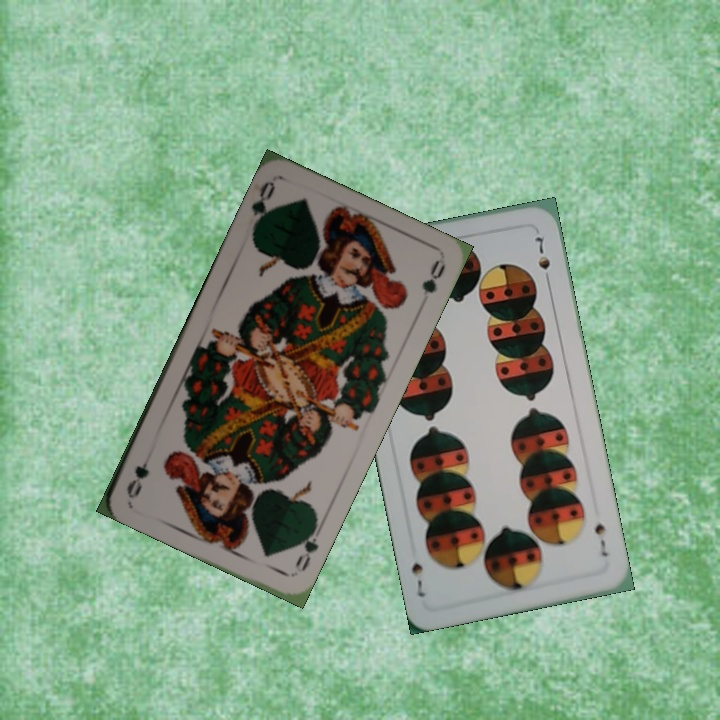GO: (247, 177, 278, 236), (291, 521, 322, 574)
S7: (590, 516, 611, 559)
